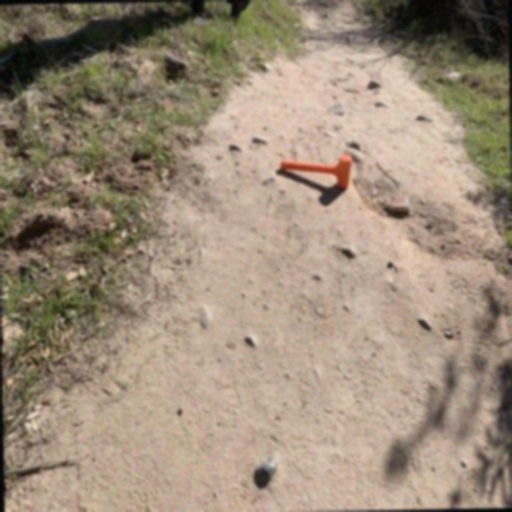mallet: (280, 152, 352, 190)
